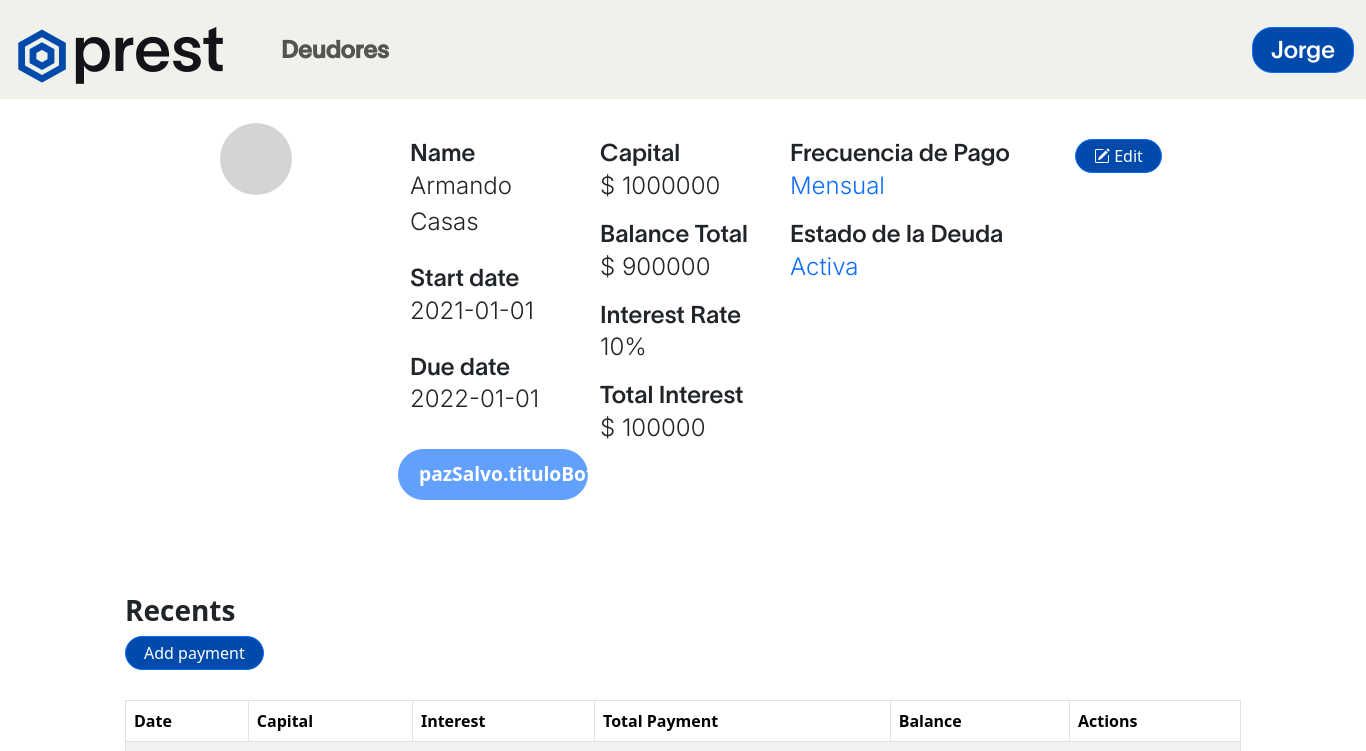
Scenario: DeudorApp › Mostrar error si las fechas de inicio y fin son inconsistentes
The image size is (1366, 751).
# Abrir el modal de modificar datos
Click the button "Edit". click: (1118, 156)
box: x1=1075 y1=139 x2=1162 y2=173
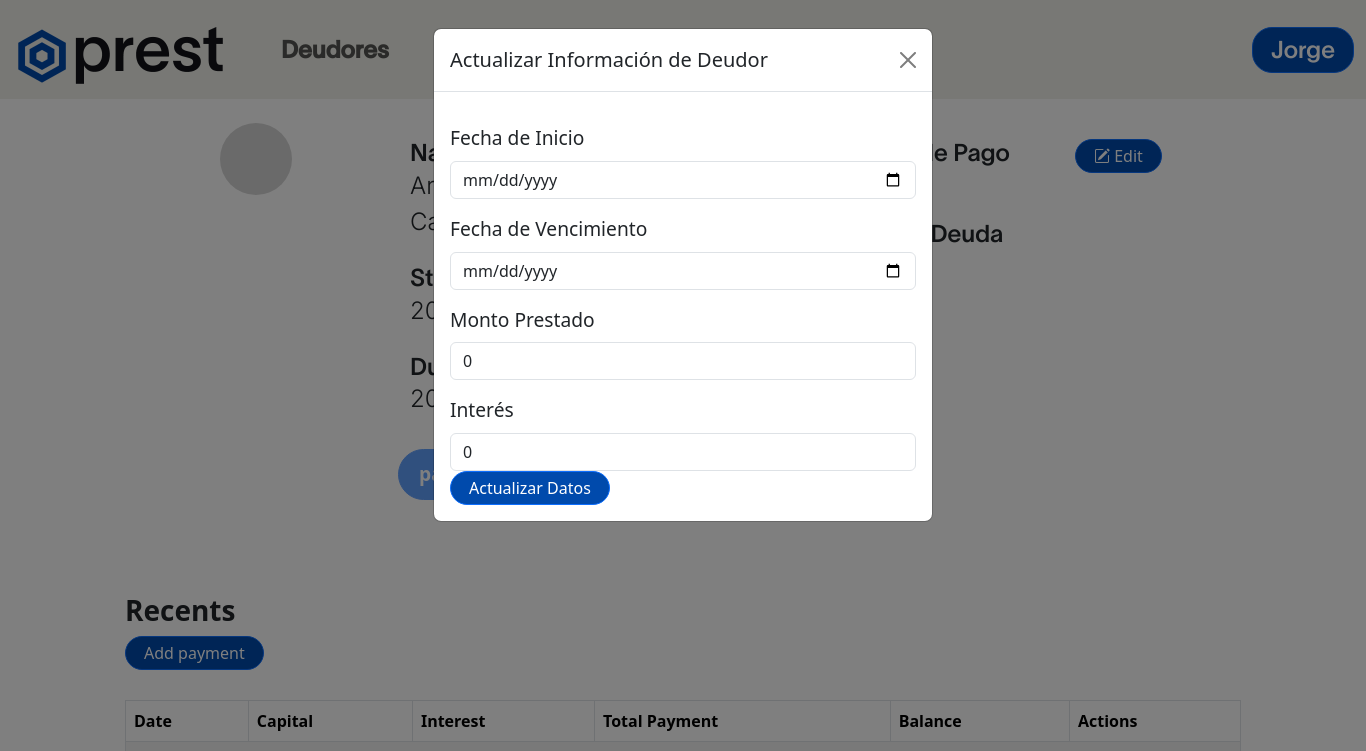
# Asignar una fecha de inicio posterior a la fecha de fin
Type "2023-01-02" into the date field labelled "Fecha de Inicio". click: (683, 180)
box: x1=450 y1=161 x2=916 y2=199
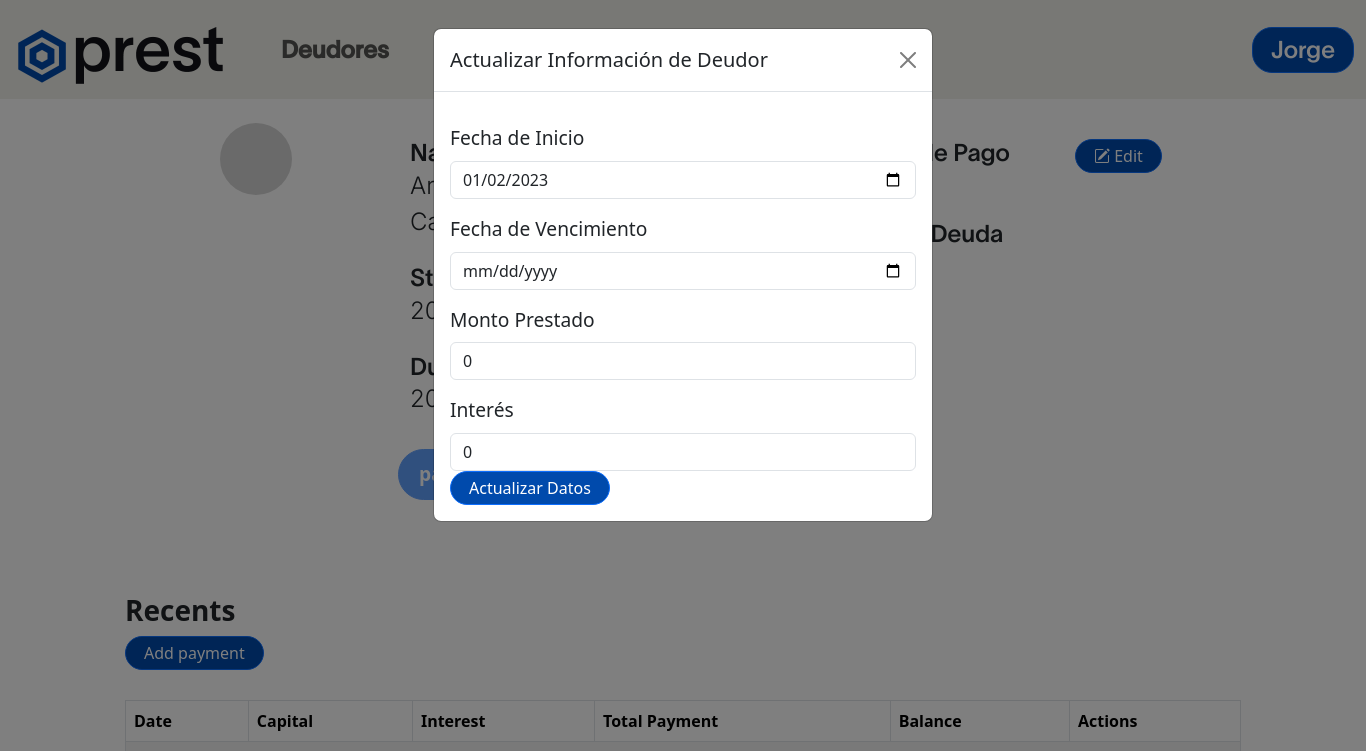
Type "2023-01-01" into the date field labelled "Fecha de Vencimiento". click: (683, 271)
box: x1=450 y1=252 x2=916 y2=290
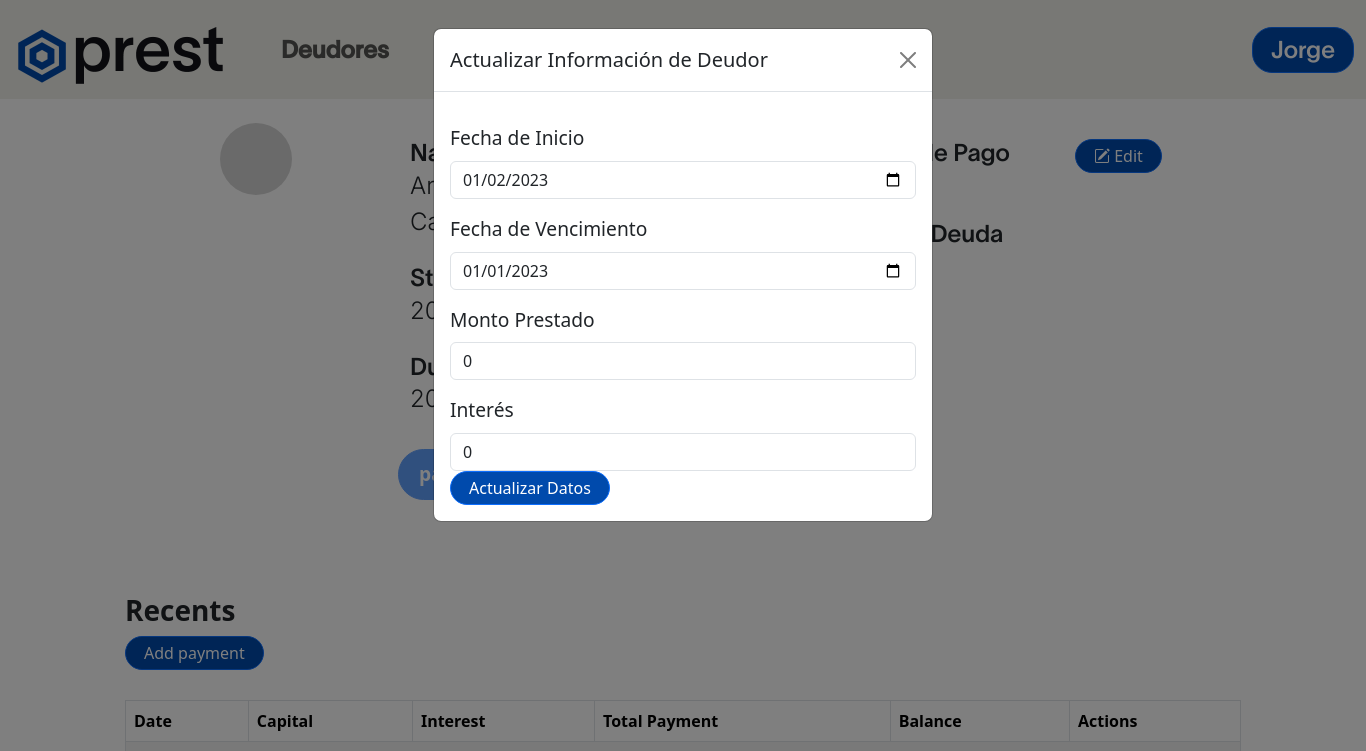
# Intentar guardar los cambios
Click the button "Actualizar Datos". click: (530, 488)
box: x1=450 y1=471 x2=610 y2=505
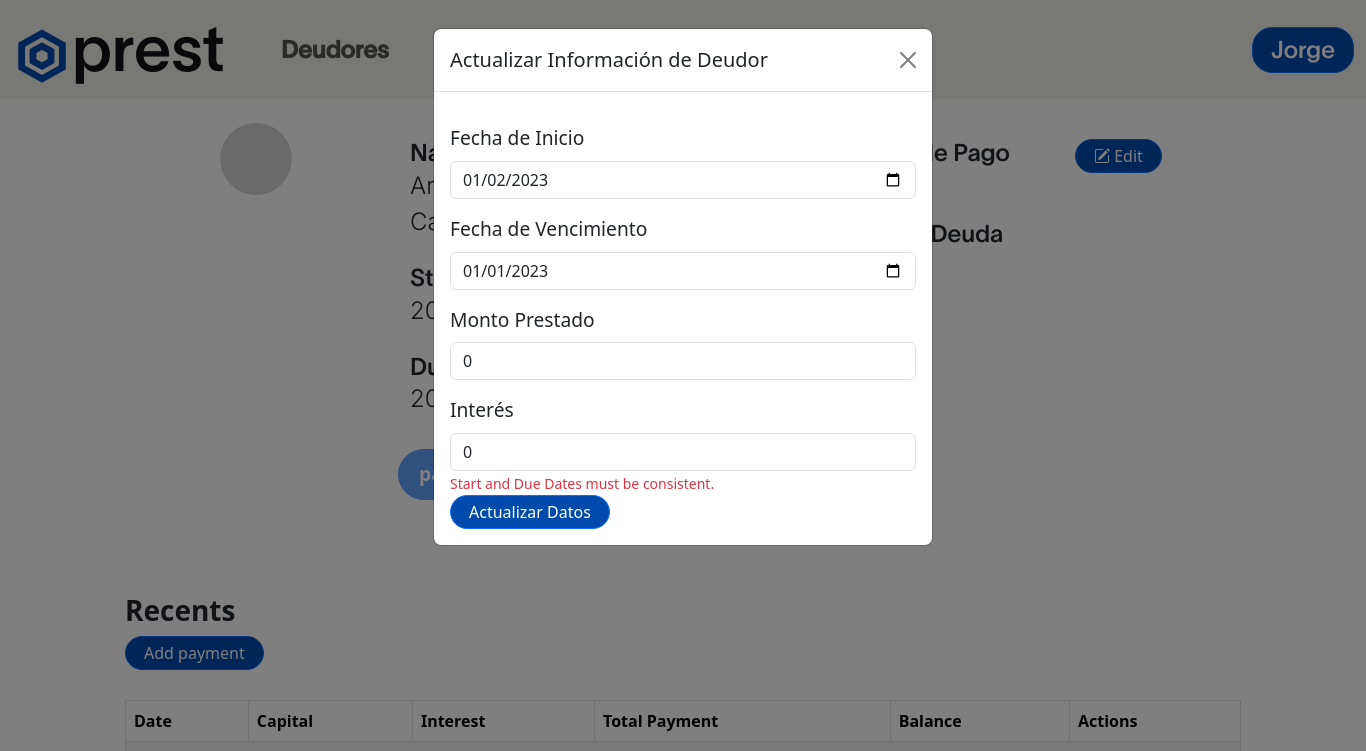
Expected: the text "Start and Due Dates must be consistent." is shown, x1=450 y1=474 x2=714 y2=493
